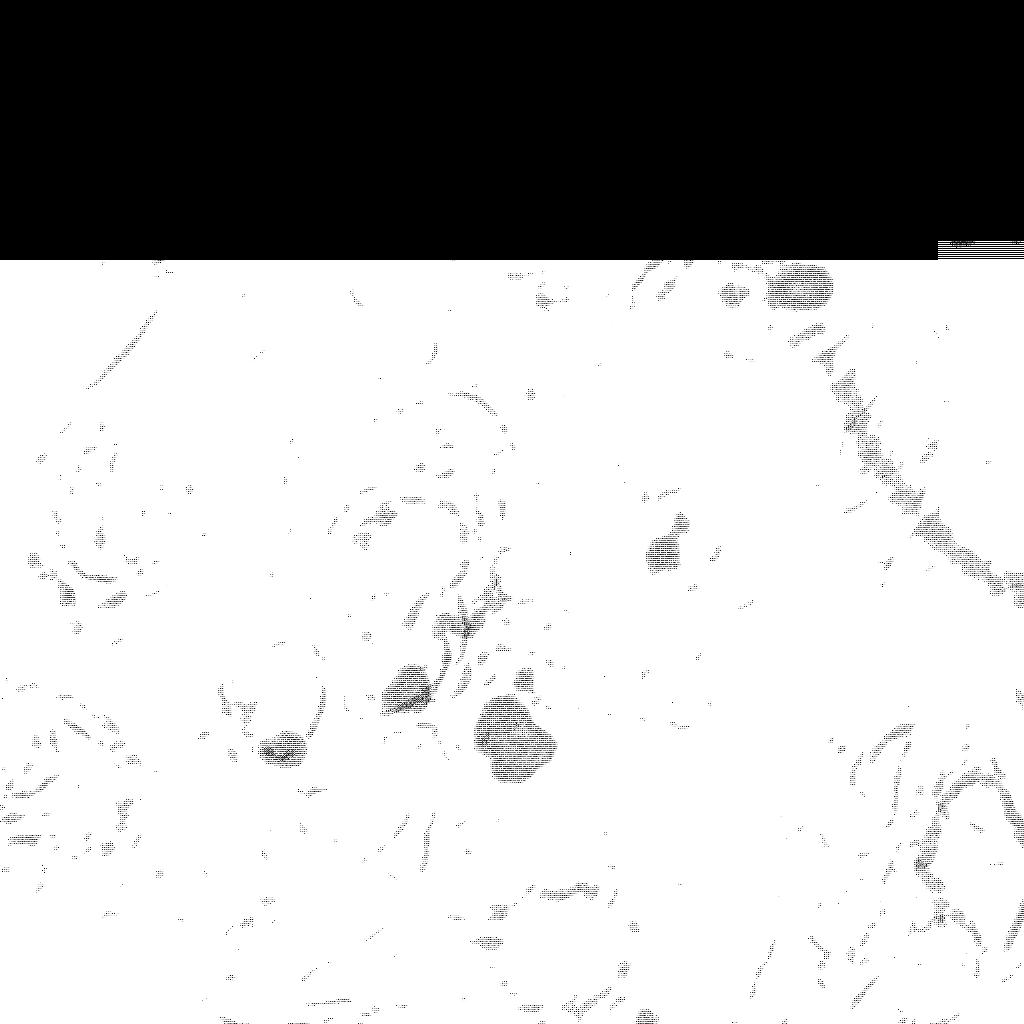axone: (466, 687, 559, 789), (760, 265, 837, 316), (376, 663, 441, 720), (250, 727, 308, 777)
